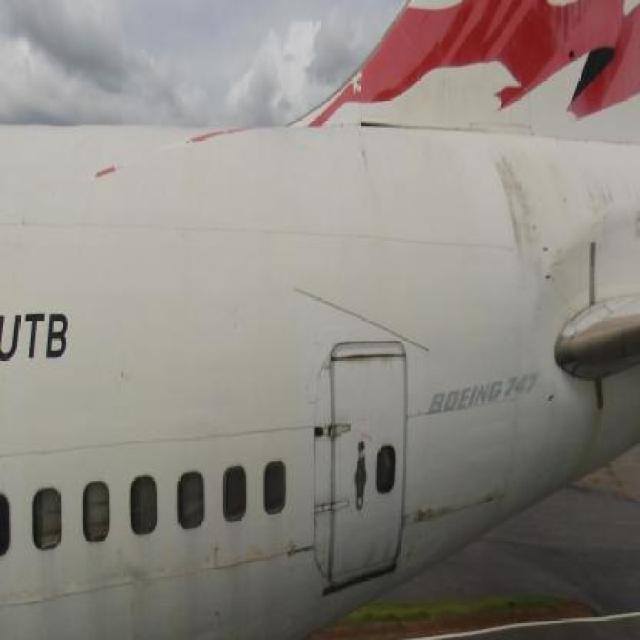Rust: (487, 136, 547, 278), (572, 155, 640, 239), (408, 487, 501, 524), (332, 344, 405, 376), (584, 385, 607, 473), (361, 528, 401, 572)
Scartch: (104, 548, 151, 614), (270, 532, 321, 576)
